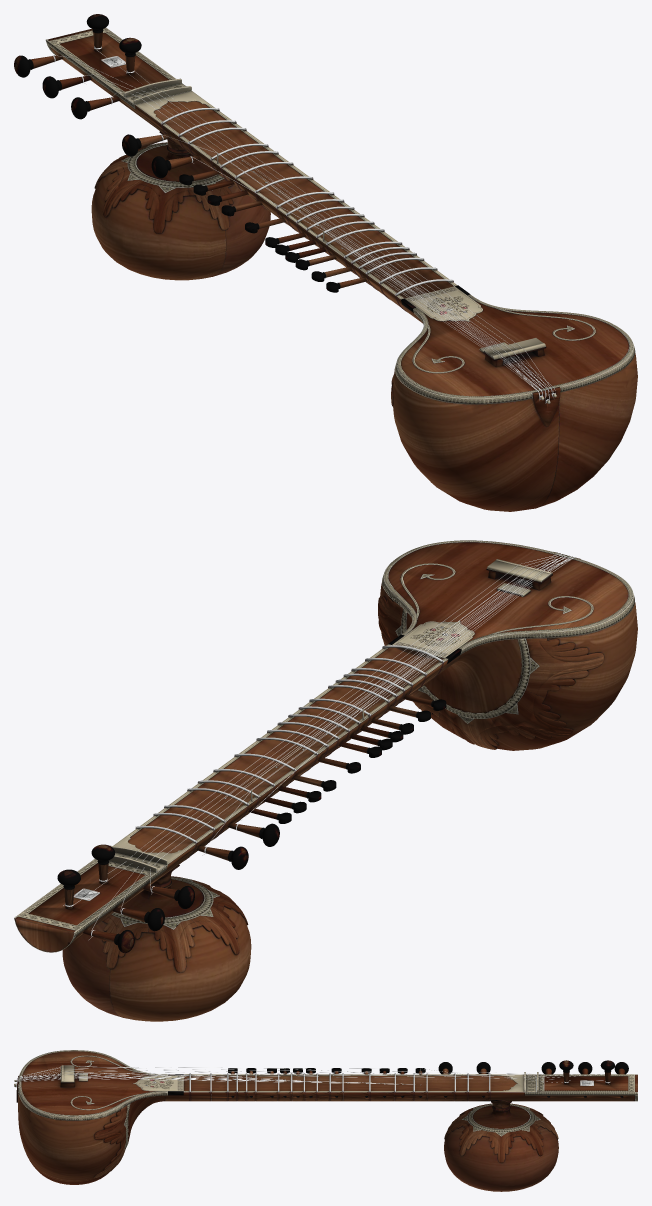
Rendered from veena-optimized.glb.
3 renders of one model, top to bottom at view 1: azimuth 30°, elevation 25°; view 2: azimuth 150°, elevation 25°; view 3: azimuth 270°, elevation 25°, orthographic. The views are drawn at different scales.
Parts seen in each view (by area): view 1: body_0, ivory_0, pegs and frets_0, strings_0, leaves_0, pegs and frets_3; view 2: body_0, ivory_0, leaves_0, pegs and frets_0, strings_0, pegs and frets_3; view 3: body_0, ivory_0, leaves_0, strings_0, pegs and frets_0, pegs and frets_3, pegs and frets_2.
Boxes of the visible parts, x1=… form: body_0: x1=47, y1=28, x2=637, y2=511; ivory_0: x1=45, y1=27, x2=635, y2=404; pegs and frets_0: x1=14, y1=14, x2=470, y2=312; strings_0: x1=52, y1=46, x2=555, y2=403; leaves_0: x1=94, y1=142, x2=394, y2=406; pegs and frets_3: x1=101, y1=56, x2=453, y2=295; body_0: x1=14, y1=542, x2=637, y2=1021; ivory_0: x1=14, y1=540, x2=634, y2=952; leaves_0: x1=101, y1=596, x2=603, y2=972; pegs and frets_0: x1=57, y1=634, x2=461, y2=952; strings_0: x1=63, y1=553, x2=575, y2=940; pegs and frets_3: x1=73, y1=645, x2=443, y2=900; body_0: x1=16, y1=1051, x2=637, y2=1191; ivory_0: x1=14, y1=1050, x2=637, y2=1150; leaves_0: x1=94, y1=1103, x2=558, y2=1177; strings_0: x1=15, y1=1066, x2=610, y2=1087; pegs and frets_0: x1=168, y1=1060, x2=628, y2=1095; pegs and frets_3: x1=189, y1=1073, x2=593, y2=1092; pegs and frets_2: x1=189, y1=1091, x2=490, y2=1100.
Size of the model in its own units: 4.77 by 3.75 by 18.19.
Materials: 8 (7 with a texture image).
